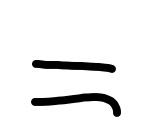eqv: (25, 57, 125, 119)
